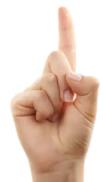up: (8, 4, 100, 168)
